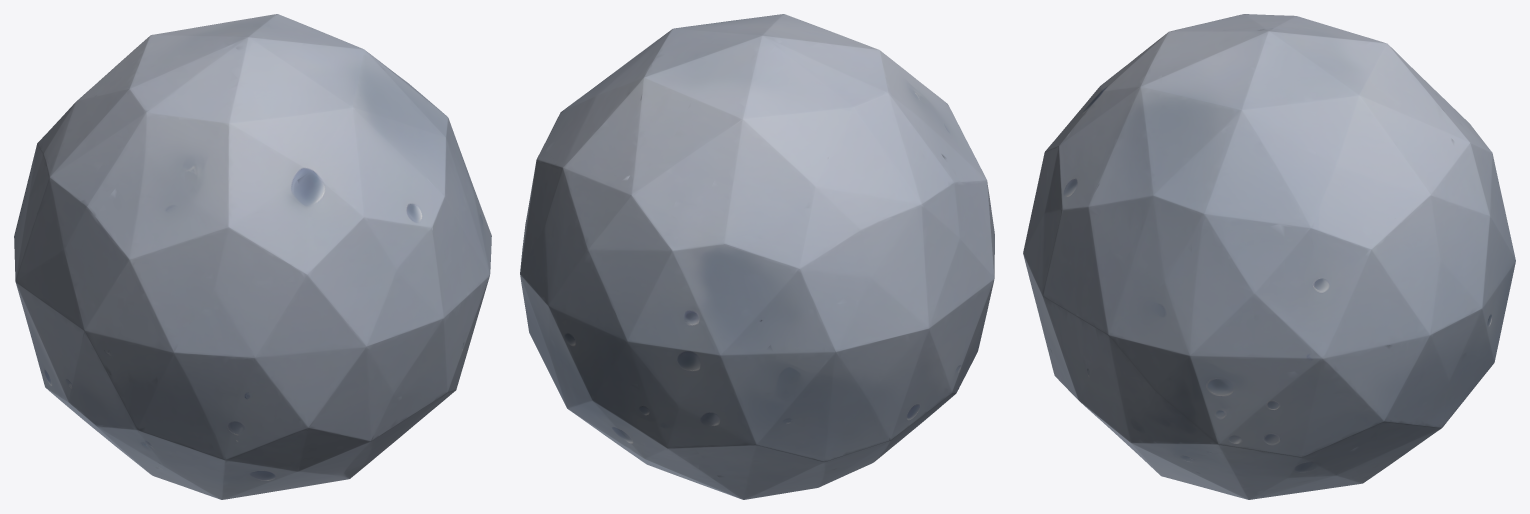
File: moon.glb
3 renders of one model, left to right at view 1: azimuth 30°, elevation 25°; view 2: azimuth 150°, elevation 25°; view 3: azimuth 270°, elevation 25°, orthographic.
Visible parts, largest first — view 1: node_0; view 2: node_0; view 3: node_0.
Boxes of the visible parts, x1,y1,x2,y2 form: node_0: (14,14,491,499); node_0: (520,14,994,499); node_0: (1023,14,1515,499).
Bounding box in the file's own units: 1.15 × 1.18 × 1.18.
1 material, 1 textured.
